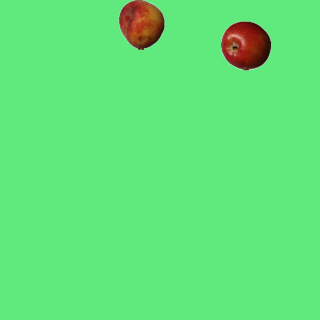Apple Braeburn: (220, 20, 270, 70)
Peach: (116, 0, 166, 49)
